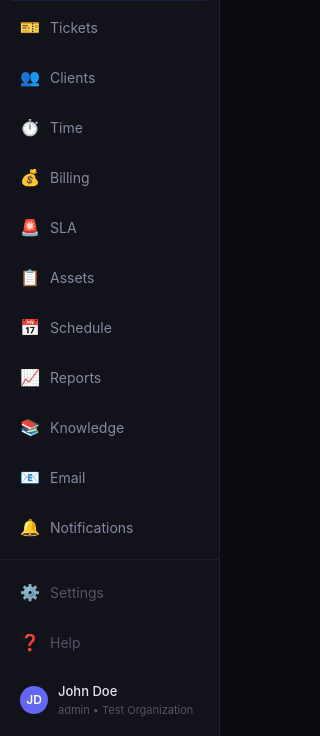
it: Sidebar › shows logout menu when user avatar is clicked
(page scrolled)
Click the button "JD John Doe admin • Test Organization" at x=110, y=700, box [8,672,211,728]
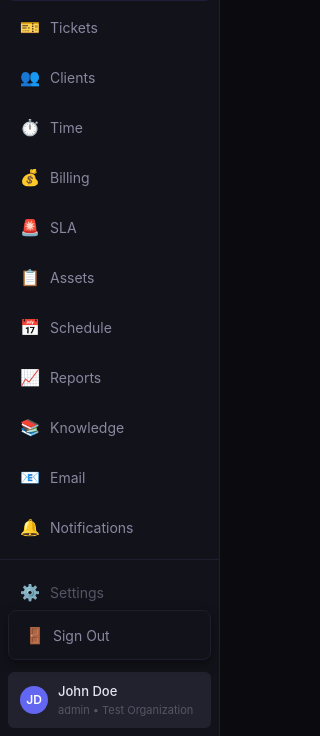
Expected: the text "Sign Out" is shown, [53,624,110,646]
